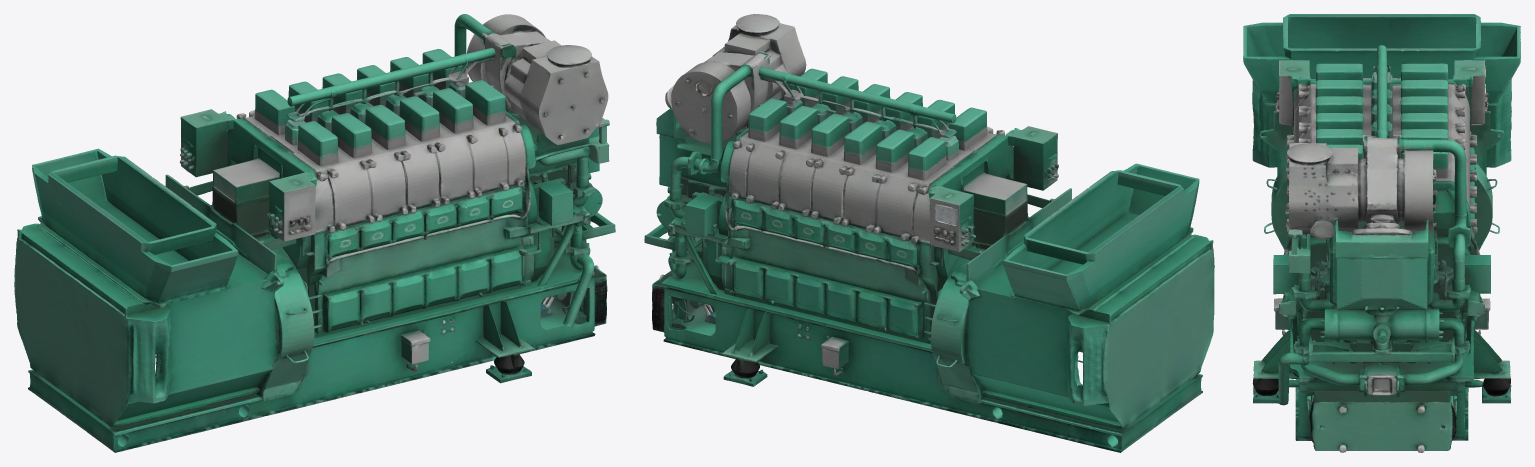
File: engine.glb
3 views of the same model, side by side, from view 1: azimuth 30°, elevation 25°; view 2: azimuth 150°, elevation 25°; view 3: azimuth 270°, elevation 25° (orthographic). The views are drawn at different scales.
Parts seen in each view (by area): view 1: tripo_node_cc570b9d-20b2-40b1-b7a2-9eeb7a656b64; view 2: tripo_node_cc570b9d-20b2-40b1-b7a2-9eeb7a656b64; view 3: tripo_node_cc570b9d-20b2-40b1-b7a2-9eeb7a656b64.
Boxes of the visible parts, box(x1,y1,x2,y2) form: tripo_node_cc570b9d-20b2-40b1-b7a2-9eeb7a656b64: box(14, 14, 615, 452); tripo_node_cc570b9d-20b2-40b1-b7a2-9eeb7a656b64: box(644, 14, 1214, 452); tripo_node_cc570b9d-20b2-40b1-b7a2-9eeb7a656b64: box(1243, 14, 1520, 452).
Bounding box in the file's own units: 0.9994 × 0.5317 × 0.4675.
1 material, 1 textured.
